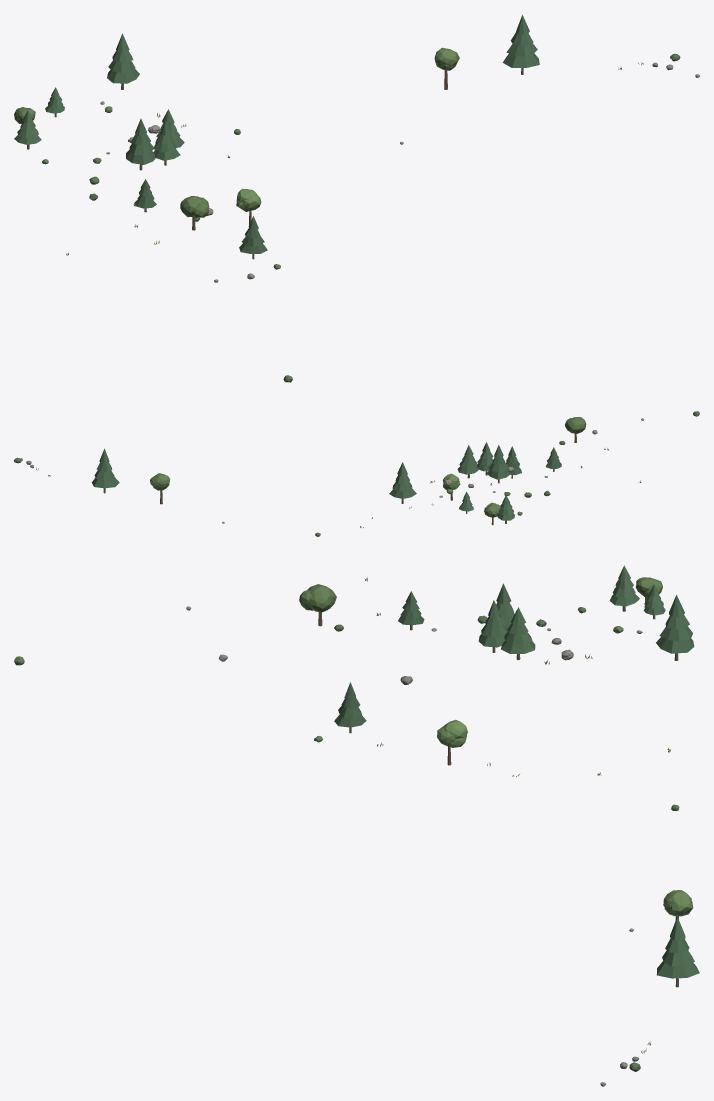
Rendered from arch_land_scatter_c17_19.glb.
3 views of the same model, one above another, from view 1: azimuth 30°, elevation 25°; view 2: azimuth 150°, elevation 25°; view 3: azimuth 270°, elevation 25° (orthographic). The views are drawn at different scales.
Visible parts, largest first — view 1: arch_land_scatter_c17_19; view 2: arch_land_scatter_c17_19; view 3: arch_land_scatter_c17_19.
Boxes of the visible parts, x1=… form: arch_land_scatter_c17_19: x1=14, y1=14, x2=699, y2=382; arch_land_scatter_c17_19: x1=14, y1=411, x2=699, y2=536; arch_land_scatter_c17_19: x1=14, y1=565, x2=699, y2=1086.
Size of the model in its own units: 184 by 38.34 by 127.
